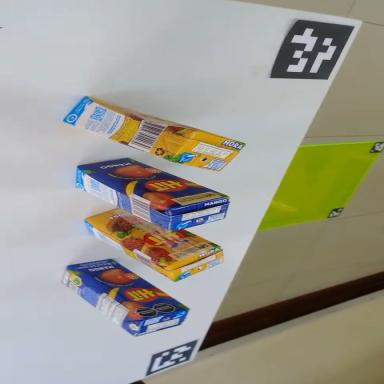HIT-MANGO: (68, 142, 232, 248), (55, 241, 190, 354)
HIT-MORA: (61, 92, 246, 180), (77, 190, 227, 296)
cara_F: (74, 142, 228, 228), (82, 189, 219, 282), (65, 240, 190, 338)
